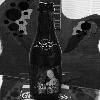beer: (29, 1, 69, 100)
